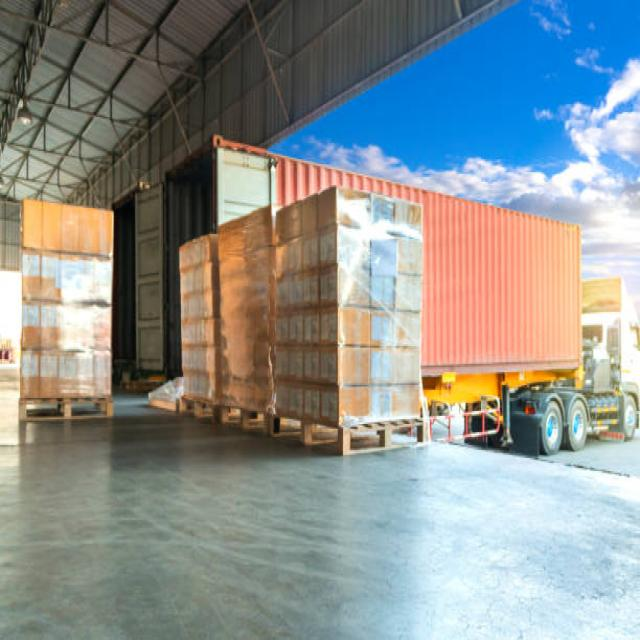Wooden-Pallets: (260, 402, 430, 464), (12, 384, 111, 421), (202, 397, 267, 442)
